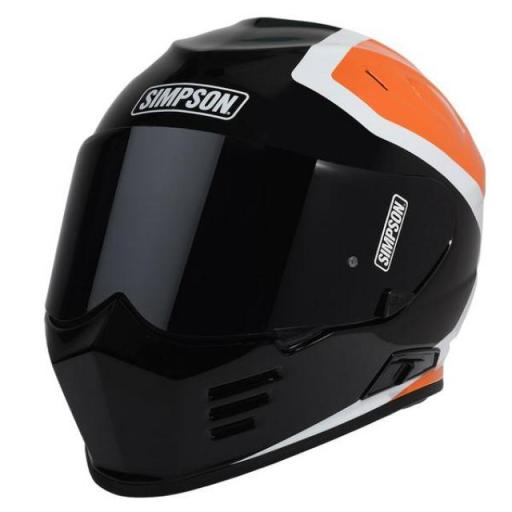Helmet: (36, 27, 482, 485)
